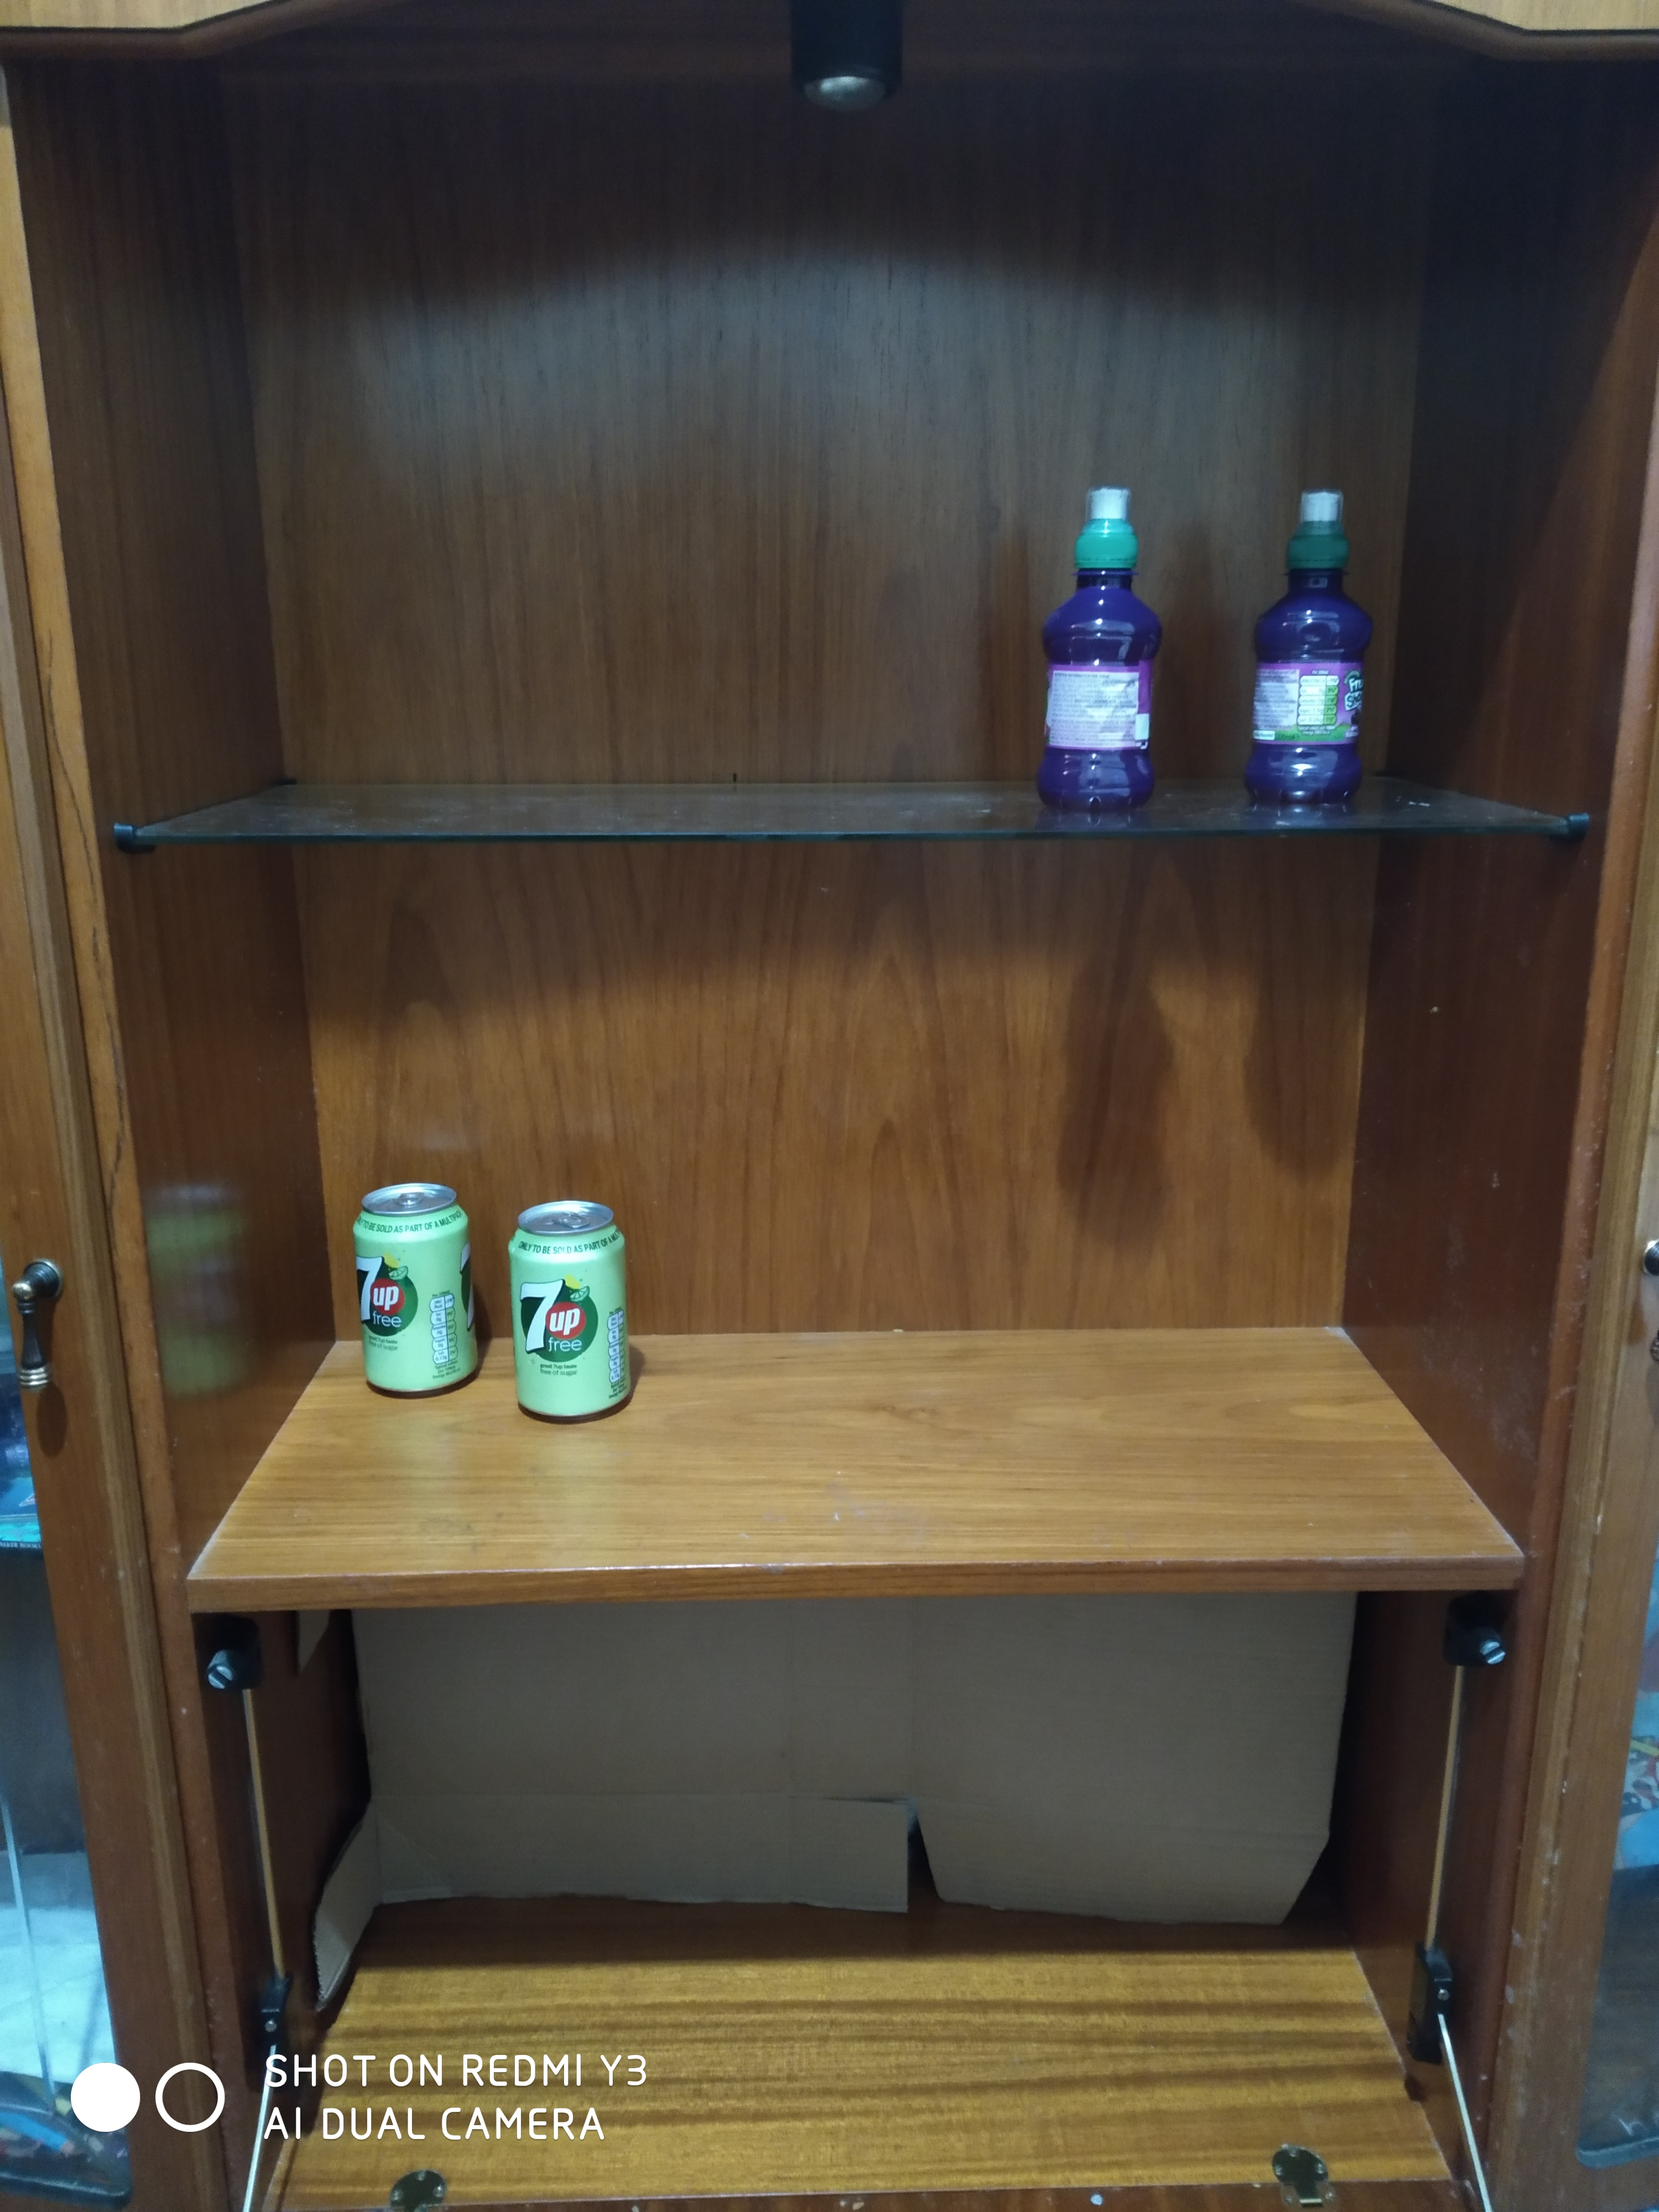blueberries: (1037, 477, 1161, 815)
